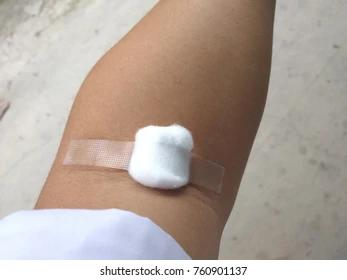gauze: (128, 123, 195, 190)
